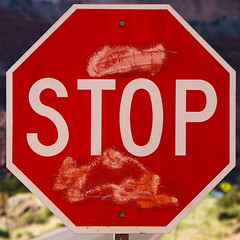StopSign: (6, 3, 235, 233)
